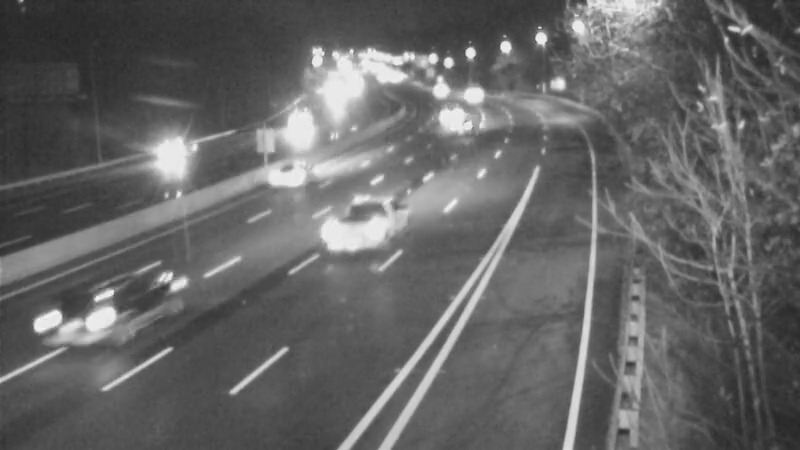vehicle: (16, 275, 126, 385), (248, 138, 328, 218), (316, 176, 396, 256), (157, 115, 237, 195), (447, 73, 497, 123), (407, 63, 457, 113), (418, 91, 468, 141), (435, 108, 485, 158), (272, 104, 322, 154)
